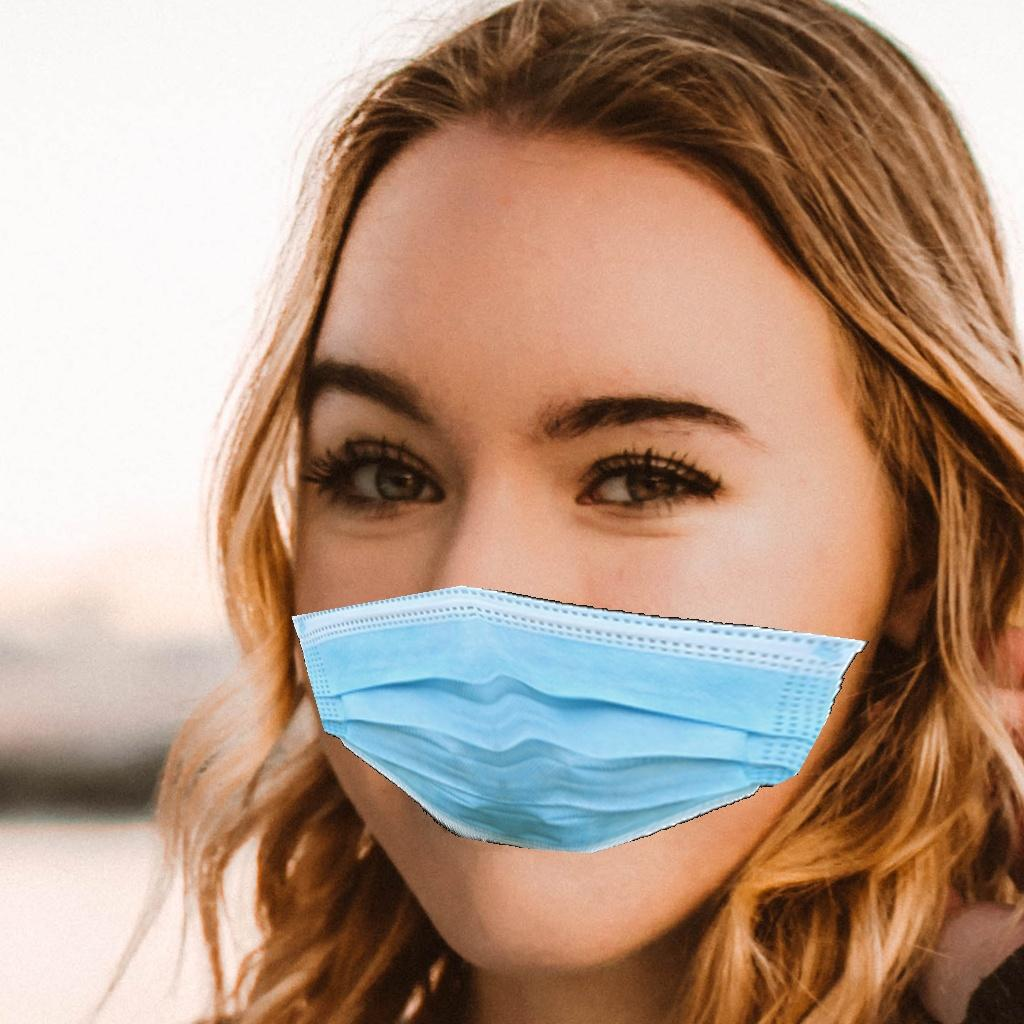Com Máscara: (292, 156, 840, 931)
